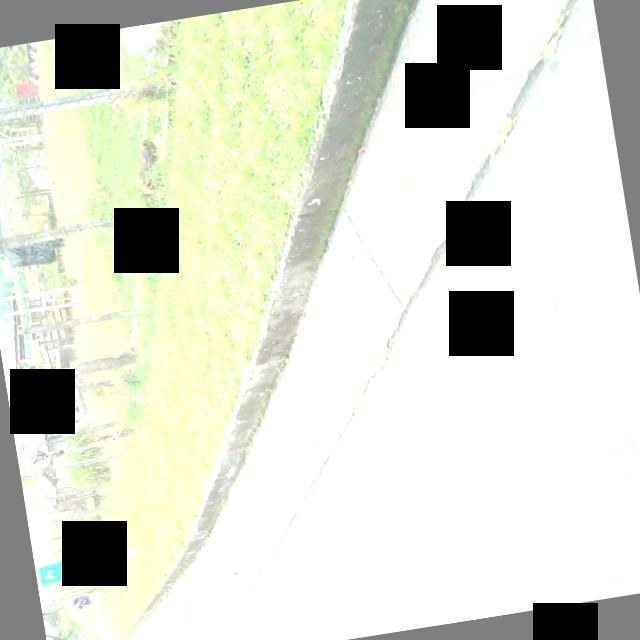DITCH: (3, 0, 640, 640), (63, 0, 640, 640)
